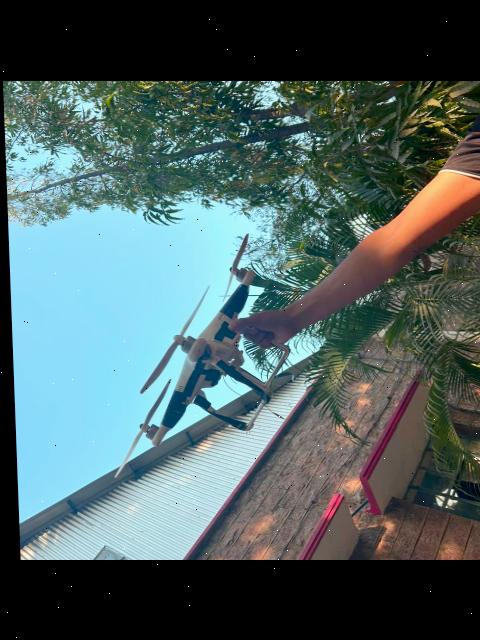drone: (95, 212, 316, 506)
